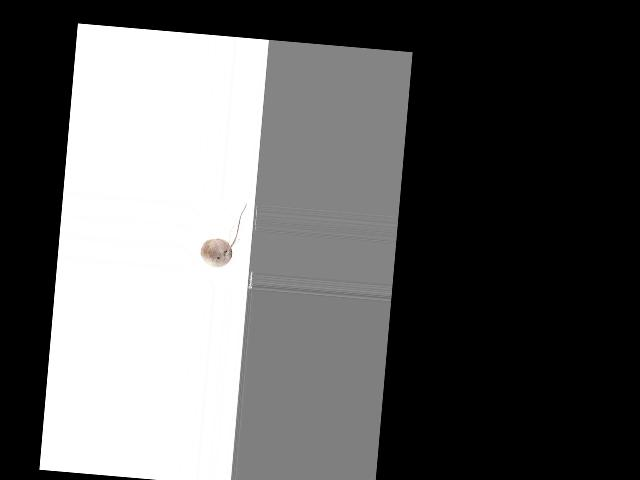beet: (199, 199, 247, 268)
